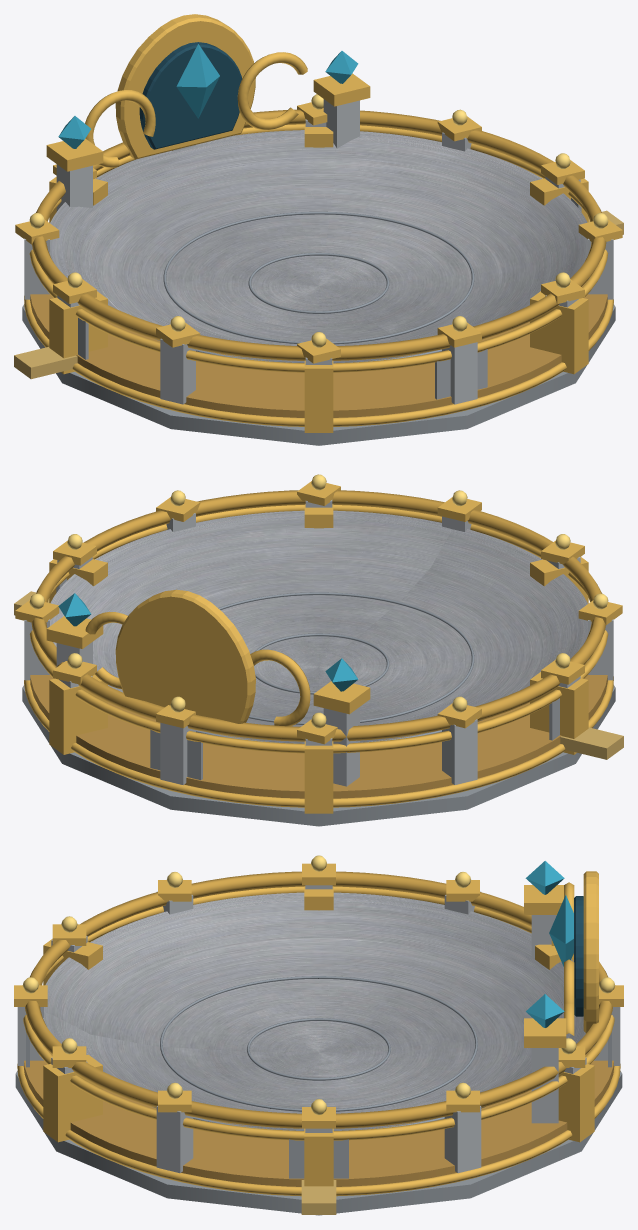
Rendered from arena-grey-lv4.glb.
The picture shows the model from 3 angles, top to bottom: view 1: azimuth 30°, elevation 25°; view 2: azimuth 150°, elevation 25°; view 3: azimuth 270°, elevation 25°; orthographic projection. The views are drawn at different scales.
Visible parts, largest first — view 1: part-2, part-1, part-6, part-49, part-51, part-64, part-65, part-50, part-54, part-4, part-58, part-56 (+27 smaller); view 2: part-2, part-1, part-6, part-64, part-49, part-51, part-50, part-62, part-58, part-60, part-31, part-37 (+29 smaller); view 3: part-2, part-1, part-6, part-49, part-51, part-50, part-54, part-64, part-4, part-62, part-11, part-44 (+27 smaller).
Part boxes in pixels (x1,y1,x2,y2): part-2: (49, 130, 588, 362); part-1: (30, 280, 607, 417); part-6: (32, 109, 606, 360); part-49: (22, 304, 615, 445); part-51: (29, 124, 608, 372); part-64: (115, 14, 255, 159); part-65: (139, 42, 242, 149); part-50: (24, 296, 613, 426); part-54: (530, 291, 588, 374); part-4: (163, 211, 474, 344); part-58: (49, 291, 107, 374); part-56: (304, 360, 333, 432); part-2: (50, 510, 588, 743); part-1: (30, 661, 607, 798); part-6: (31, 490, 605, 741); part-64: (115, 589, 255, 723); part-49: (22, 685, 615, 826); part-51: (29, 505, 608, 753); part-50: (24, 676, 613, 807); part-62: (49, 674, 107, 754); part-58: (530, 672, 588, 754); part-60: (304, 741, 333, 813); part-31: (442, 719, 477, 784); part-37: (160, 722, 195, 784); part-2: (43, 892, 585, 1130); part-1: (23, 1046, 614, 1186); part-6: (25, 871, 612, 1128); part-49: (15, 1071, 622, 1215); part-51: (23, 886, 614, 1140); part-50: (17, 1064, 620, 1196); part-54: (43, 1054, 102, 1142); part-64: (583, 871, 598, 1033); part-4: (160, 976, 477, 1111); part-62: (558, 1064, 594, 1142); part-11: (156, 1106, 193, 1173); part-44: (444, 1106, 481, 1173).
Size of the model in its own units: 6.44 by 2.14 by 5.61.
Materials: 75 (2 with a texture image).
